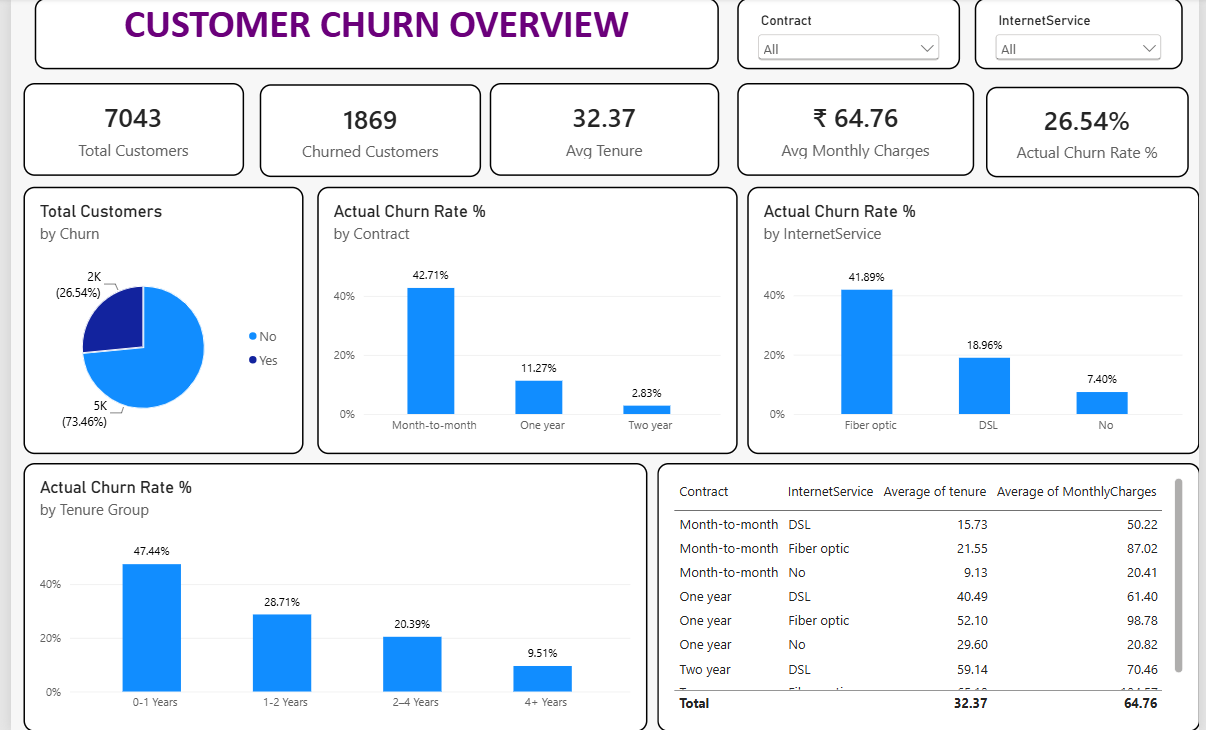

Layout of this report page (visuals, bound fields, positions):
{"tool":"powerbi","page":{"name":"OVERVIEW","canvas":[1280,790],"ordinal":0},"visuals":[{"type":"card","fields":{"Values":["ChurnPredictions.Overall Churn Rate %"]},"box":[1049.7,96.1,218.2,97.4],"z":0},{"type":"card","fields":{"Values":["ChurnPredictions.Total Customers"]},"box":[13.7,91.9,237.4,100.2],"z":1000},{"type":"clusteredColumnChart","fields":{"Category":["ChurnPredictions.Contract"],"Y":["ChurnPredictions.Overall Churn Rate %"]},"box":[329.3,203.1,452.8,288.2],"z":2000},{"type":"textbox","box":[26.1,0,736.9,76.8],"z":3000},{"type":"pieChart","fields":{"Category":["ChurnPredictions.Churn"],"Y":["ChurnPredictions.Total Customers"]},"box":[13.7,203.1,301.9,288.2],"z":4000},{"type":"clusteredColumnChart","fields":{"Category":["ChurnPredictions.InternetService"],"Y":["ChurnPredictions.Overall Churn Rate %"]},"box":[793.1,203.1,487.1,288.2],"z":5000},{"type":"clusteredColumnChart","fields":{"Category":["ChurnPredictions.Tenure Group"],"Y":["ChurnPredictions.Overall Churn Rate %"]},"box":[13.7,500.9,672.4,289.5],"z":6000},{"type":"tableEx","fields":{"Values":["ChurnPredictions.Contract","ChurnPredictions.InternetService","Avg(ChurnPredictions.tenure)","Avg(ChurnPredictions.MonthlyCharges)"]},"box":[695.7,500.9,584.6,289.5],"z":7000},{"type":"card","fields":{"Values":["ChurnPredictions.Avg Monthly Charges"]},"box":[782.2,91.9,255.2,100.2],"z":8000},{"type":"card","fields":{"Values":["ChurnPredictions.Avg Tenure"]},"box":[516,91.9,247,100.2],"z":9000},{"type":"card","fields":{"Values":["ChurnPredictions.Churned Customers"]},"box":[267.6,93.3,238.8,100.2],"z":10000},{"type":"slicer","fields":{"Values":["ChurnPredictions.Contract"]},"box":[782.2,0,240.1,76.8],"z":10001},{"type":"slicer","fields":{"Values":["ChurnPredictions.InternetService"]},"box":[1037.4,0,223.7,76.8],"z":10002}]}

Visuals, with their boxes in screenshot pixels (x1, y1, x2, y2), scaled from the page's 1280x790 canvas onto the 1206x730 screenshot:
card - ChurnPredictions.Overall Churn Rate %: {"left": 989, "top": 89, "right": 1195, "bottom": 179}
card - ChurnPredictions.Total Customers: {"left": 13, "top": 85, "right": 237, "bottom": 178}
clusteredColumnChart - ChurnPredictions.Contract x ChurnPredictions.Overall Churn Rate %: {"left": 310, "top": 188, "right": 737, "bottom": 454}
textbox: {"left": 25, "top": 0, "right": 719, "bottom": 71}
pieChart - ChurnPredictions.Churn x ChurnPredictions.Total Customers: {"left": 13, "top": 188, "right": 297, "bottom": 454}
clusteredColumnChart - ChurnPredictions.InternetService x ChurnPredictions.Overall Churn Rate %: {"left": 747, "top": 188, "right": 1205, "bottom": 454}
clusteredColumnChart - ChurnPredictions.Tenure Group x ChurnPredictions.Overall Churn Rate %: {"left": 13, "top": 463, "right": 646, "bottom": 729}
tableEx - ChurnPredictions.Contract x ChurnPredictions.InternetService: {"left": 655, "top": 463, "right": 1205, "bottom": 729}
card - ChurnPredictions.Avg Monthly Charges: {"left": 737, "top": 85, "right": 977, "bottom": 178}
card - ChurnPredictions.Avg Tenure: {"left": 486, "top": 85, "right": 719, "bottom": 178}
card - ChurnPredictions.Churned Customers: {"left": 252, "top": 86, "right": 477, "bottom": 179}
slicer - ChurnPredictions.Contract: {"left": 737, "top": 0, "right": 963, "bottom": 71}
slicer - ChurnPredictions.InternetService: {"left": 977, "top": 0, "right": 1188, "bottom": 71}
